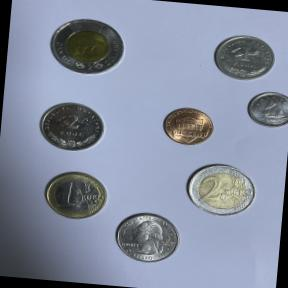1 Euro: (38, 166, 114, 224)
2 Euro: (180, 159, 262, 222)
Canda-10cent-: (243, 87, 288, 130)
Canda-2Dollar-: (43, 11, 133, 80)
Croatia-2Kune-: (33, 97, 109, 156)
US-1cent-: (158, 104, 218, 150)
US-25cent-: (109, 209, 184, 267)
